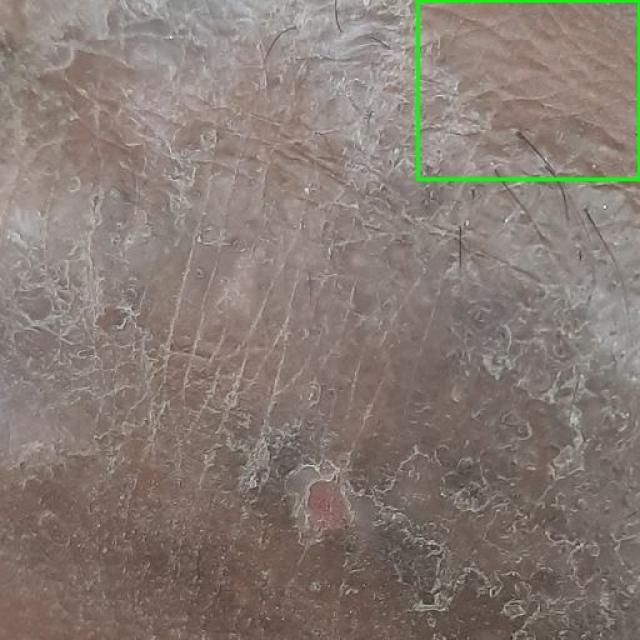Eczema: (418, 0, 639, 179)
